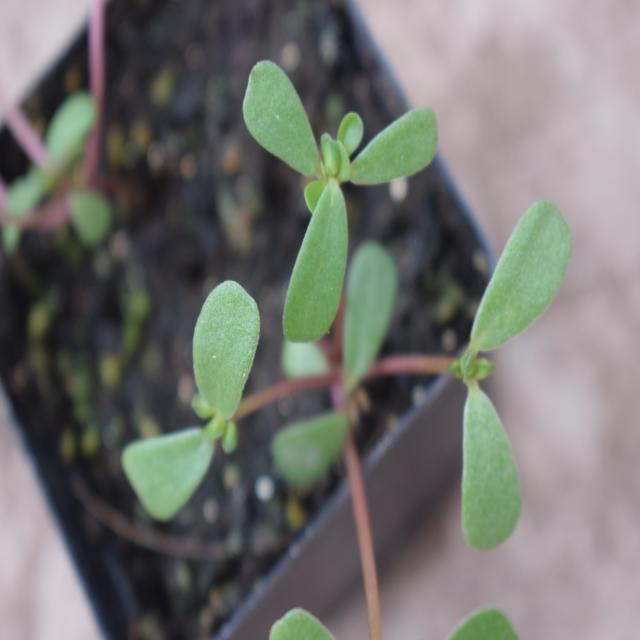purslane: (143, 83, 568, 549)
